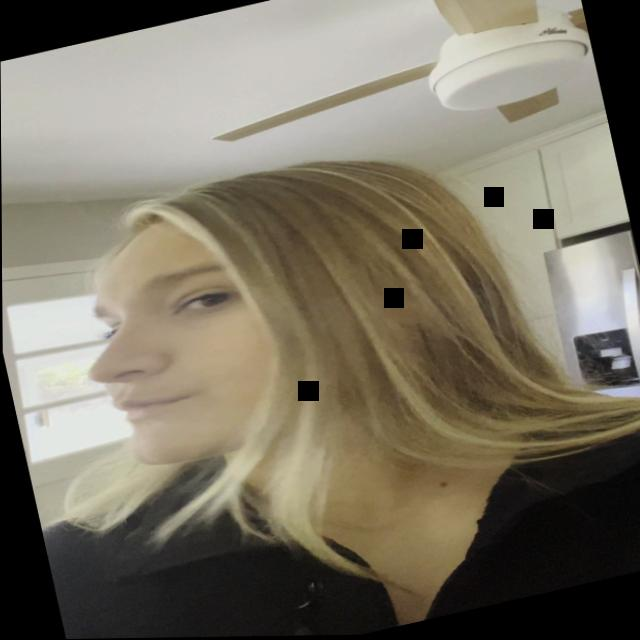NO-Mask: (55, 183, 334, 480)
